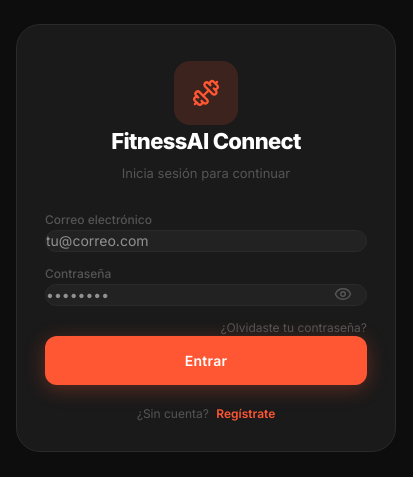
Login — modo inicio de sesión › avisa si el correo no está registrado y no intenta autenticar
This screenshot has width=413, height=477.
Step 1. Type "carlos@example.com" into the field labelled "Correo electrónico" → (206, 241), box [45,230,367,252]
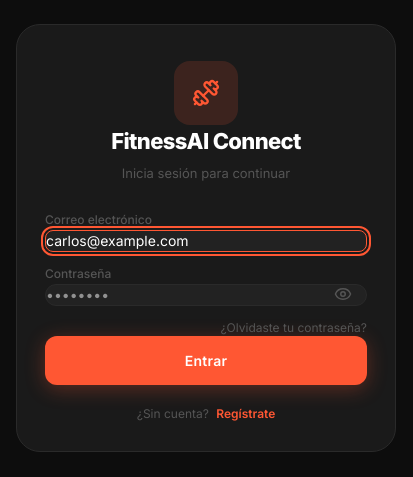
Step 2. Type "secreto123" into the password field labelled "Contraseña" → (206, 295), box [45,284,367,306]
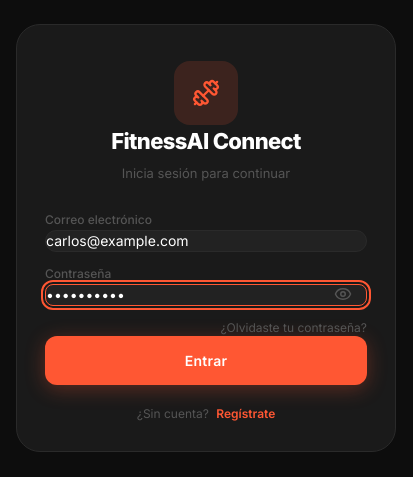
Step 3. Click the button "Entrar" → (206, 360), box [45,336,367,385]
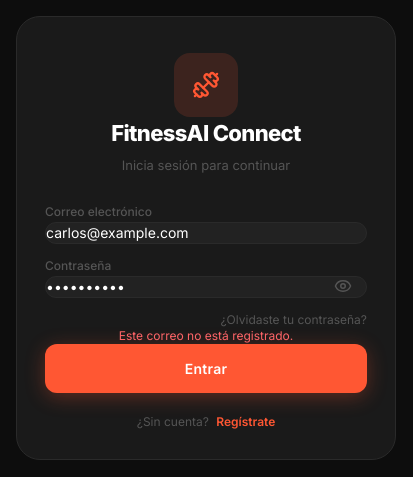
Expected: the text "Este correo no está registrado." is shown, [119,328,293,343]
